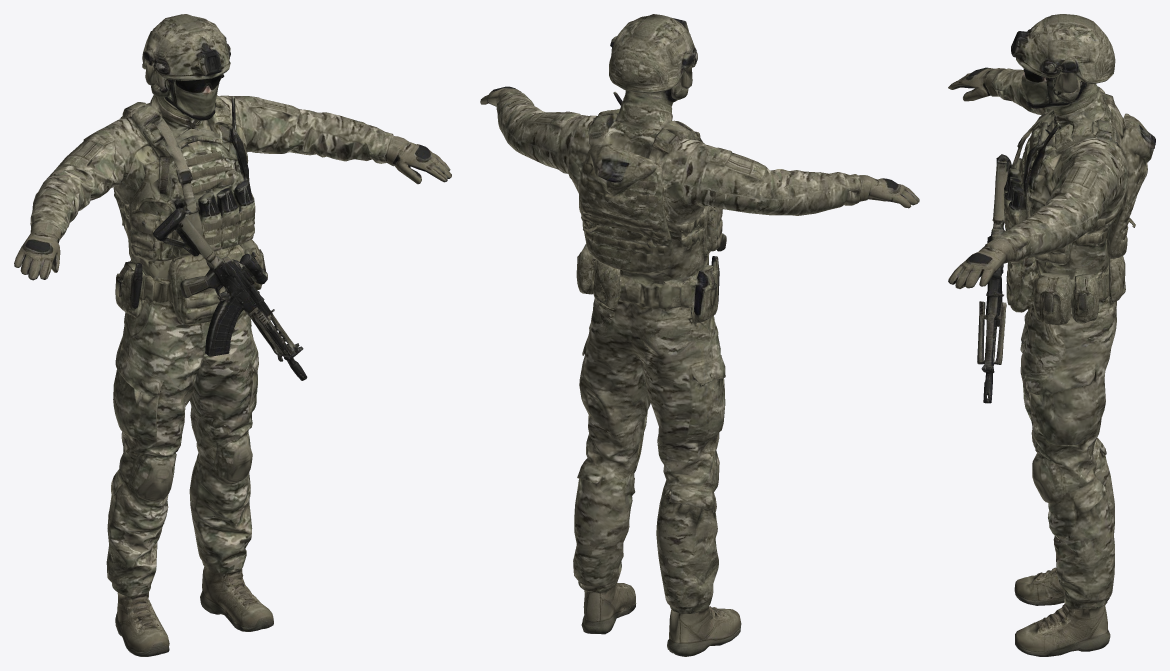
The model's file is soldier.glb.
3 renders of one model, left to right at view 1: azimuth 30°, elevation 25°; view 2: azimuth 150°, elevation 25°; view 3: azimuth 270°, elevation 25°, orthographic.
Size of the model in its own units: 1.4 by 1.9 by 0.5899.
1 material, 1 textured.
